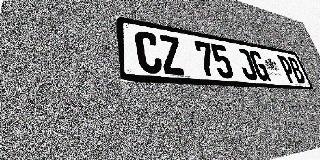5: (210, 43, 235, 79)
7: (193, 40, 219, 78)
B: (287, 57, 307, 84)
C: (134, 30, 164, 74)
G: (248, 50, 271, 81)
J: (235, 48, 259, 80)
P: (277, 55, 298, 83)
Z: (158, 34, 186, 76)
